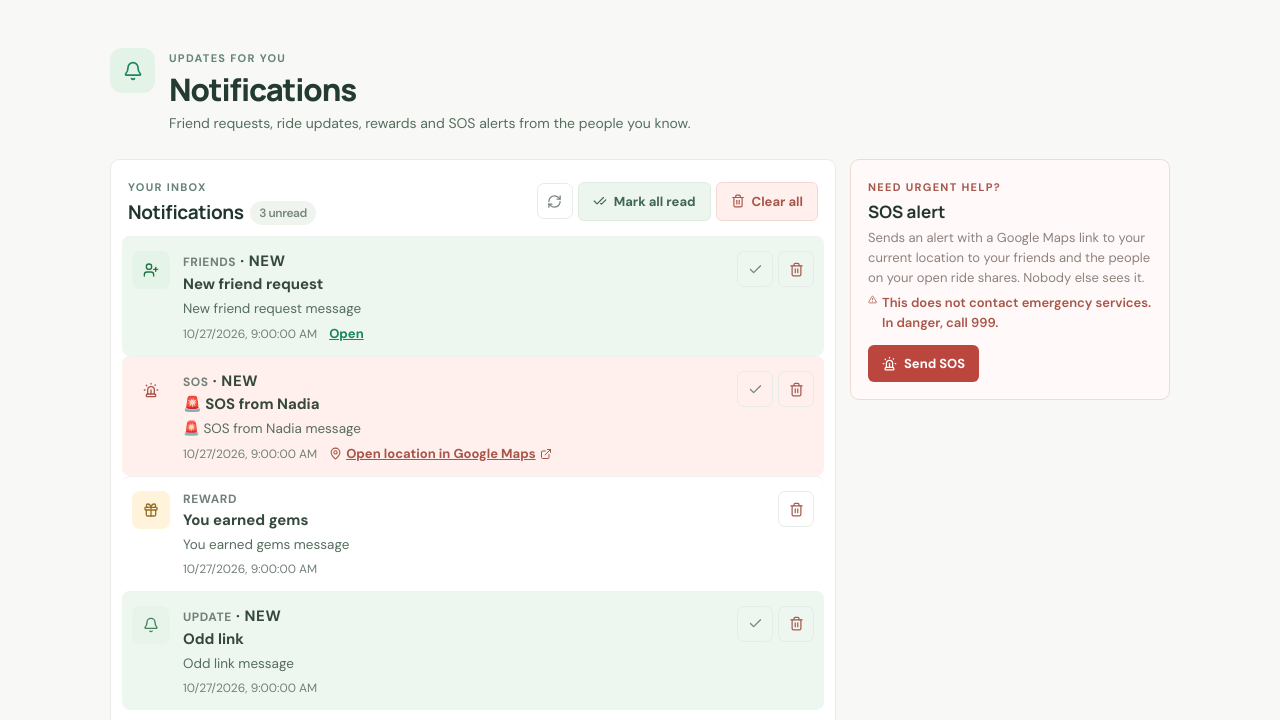
it: NotificationsPage › clears everything only after confirming
The image size is (1280, 720).
Click the button "Clear all".
click(767, 201)  # box [716,182,818,221]
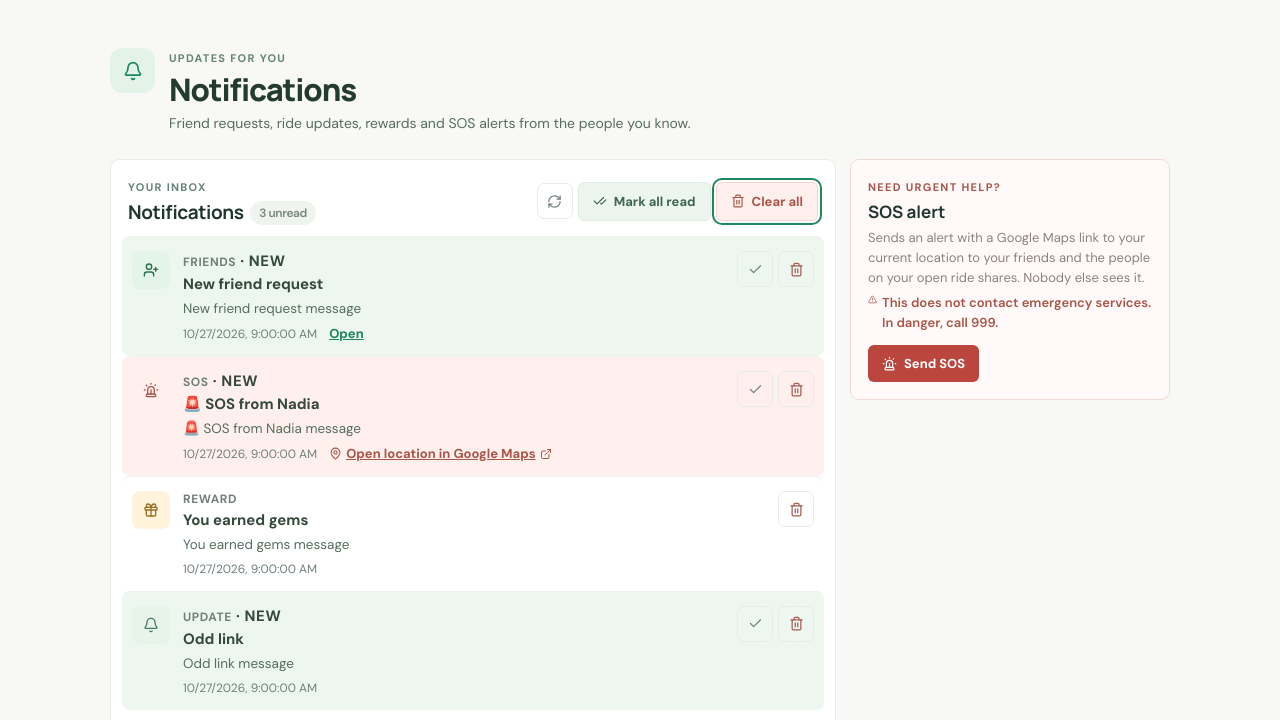
Click the button "Clear all".
click(767, 201)  # box [716,182,818,221]
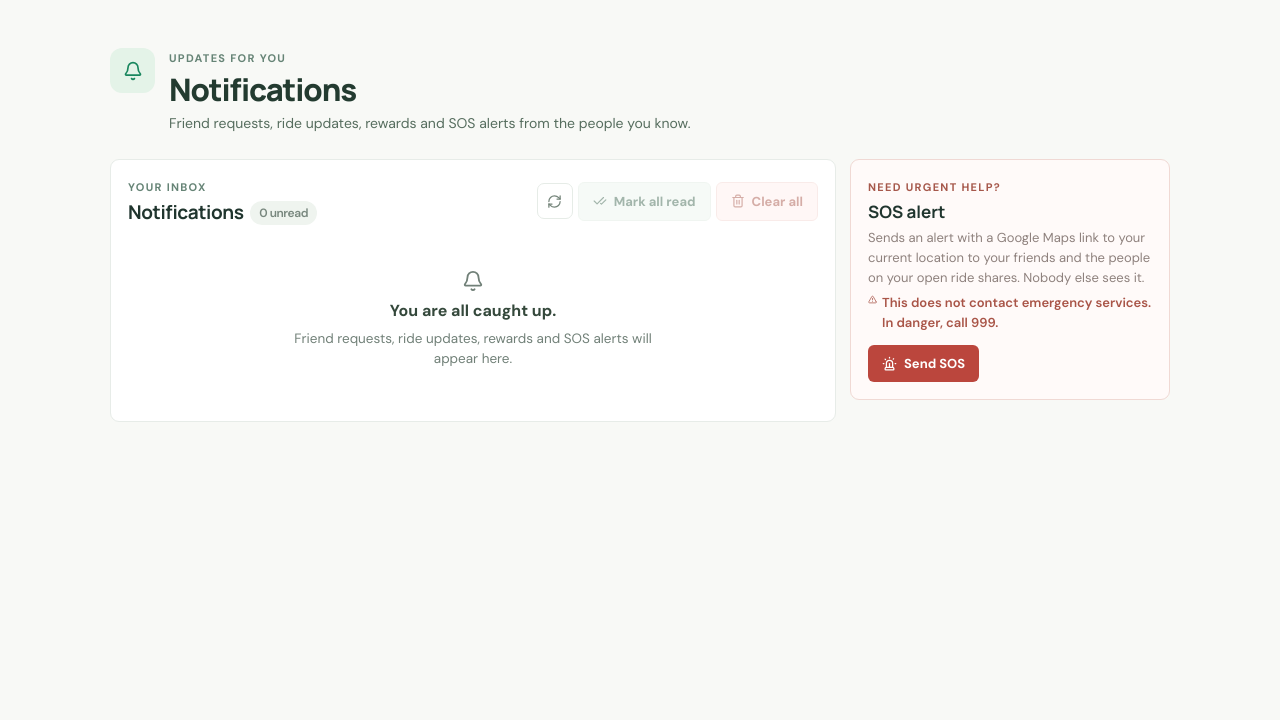
Expected: the text "You are all caught up." is shown, [390,300,556,321]
